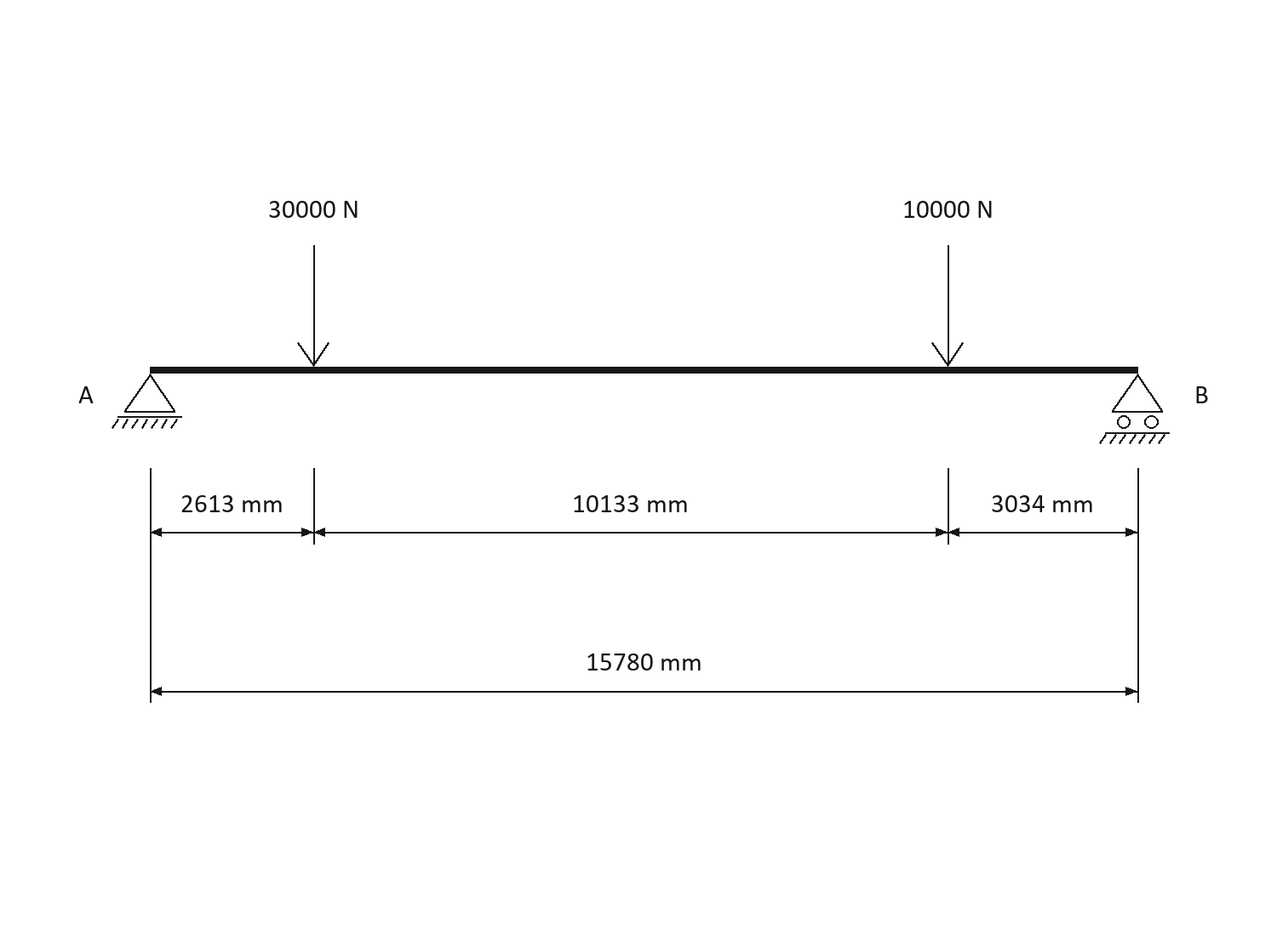pin_support: (112, 374, 182, 429)
point_load: (931, 245, 964, 367), (297, 245, 329, 367)
roller_support: (1099, 374, 1170, 444)
